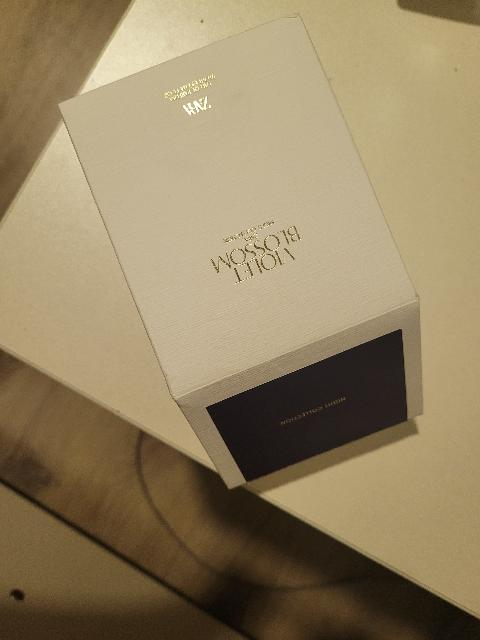Kagit: (56, 10, 440, 493)
